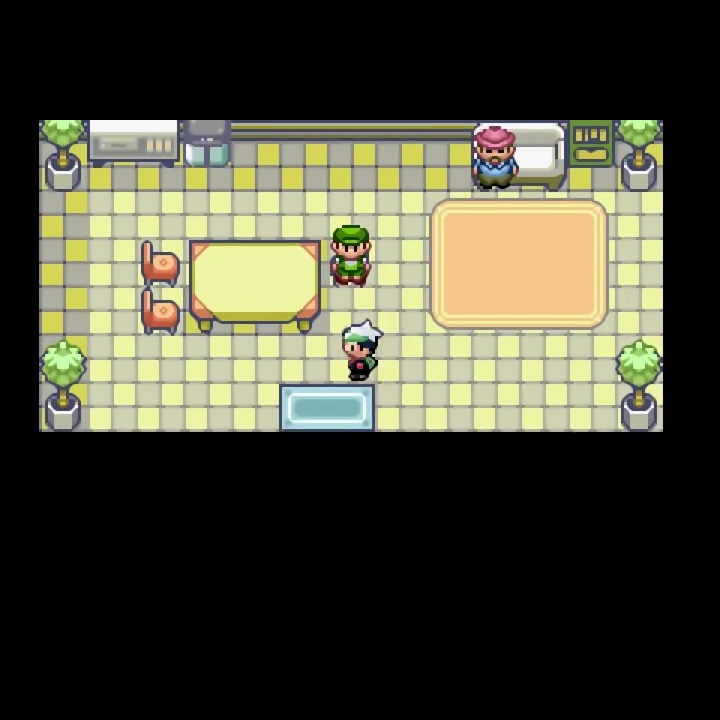agent: (341, 319, 386, 385)
exit: (277, 382, 379, 494)
npc: (471, 126, 521, 193), (328, 223, 375, 292)
